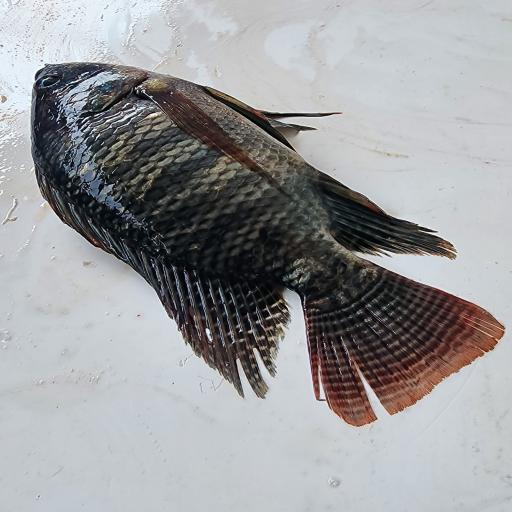Tilapia: (31, 62, 506, 428)
